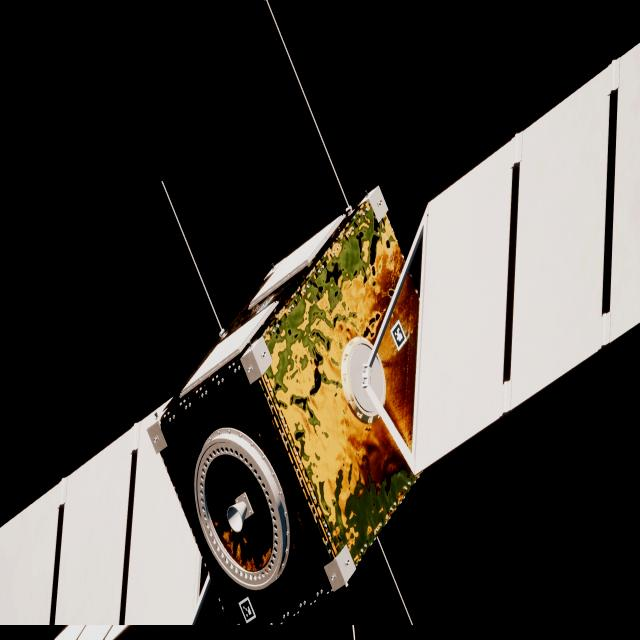satellite: (0, 43, 640, 630)
